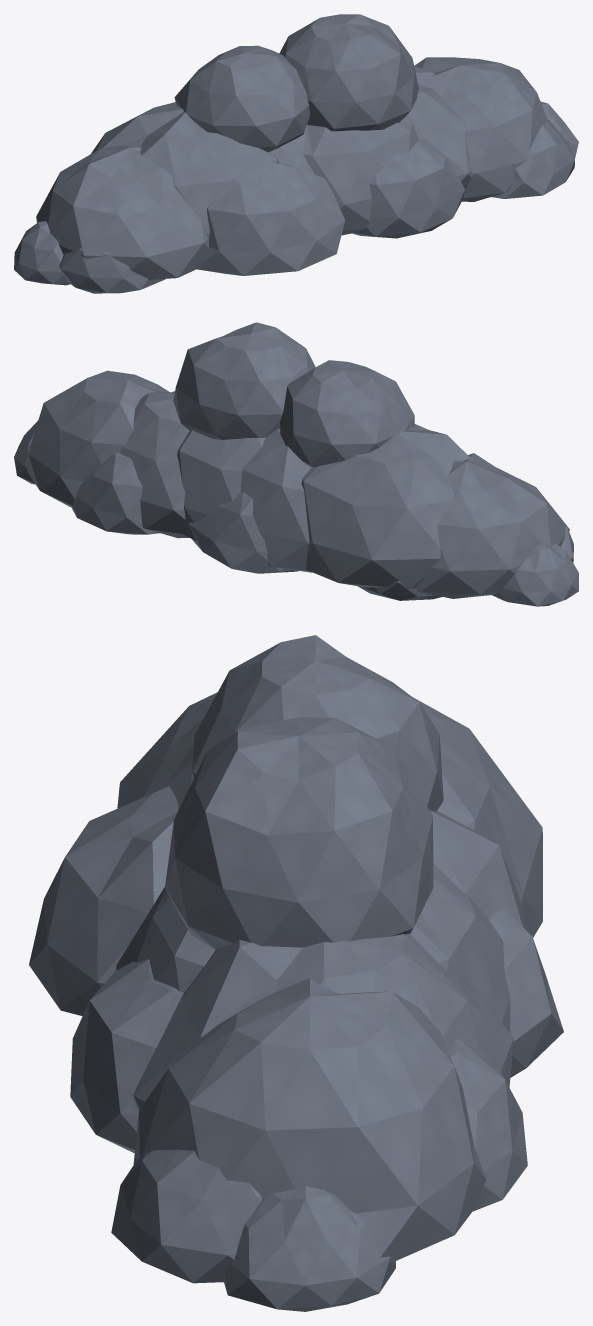
File: cloud_storm.obj
3 views of the same model, one above another, from view 1: azimuth 30°, elevation 25°; view 2: azimuth 150°, elevation 25°; view 3: azimuth 270°, elevation 25° (orthographic). The views are drawn at different scales.
Parts seen in each view (by area): view 1: cloud_storm; view 2: cloud_storm; view 3: cloud_storm.
Part boxes in pixels (left/top/right/bottom): cloud_storm: left=14, top=14, right=578, bottom=293; cloud_storm: left=14, top=322, right=578, bottom=606; cloud_storm: left=29, top=635, right=563, bottom=1311.
Bounding box in the file's own units: 29.67 × 9.55 × 12.54.
Materials: 1 (1 with a texture image).
